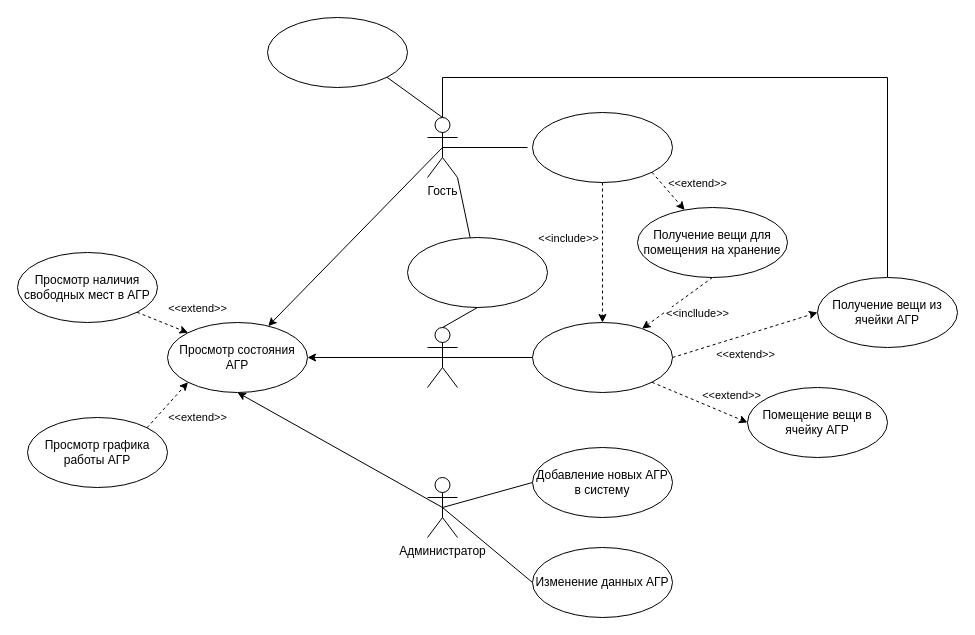
The diagram is 975 pixels wide and 635 high, and some of its shapes have lost their labels. The shapes that lost their labels are listed below. From the top down, each one's centre as x and y in pixels, then its label:
At (337,52): "Получение информации о предыдущих посещениях".
At (602,147): "Получение номера выделенной ячейки гардероба".
At (477,272): "Обращение в поддержку".
At (442,357): "Работник гардероба".
At (602,357): "Получение номера запрашиваемой ячейки гардероба".
